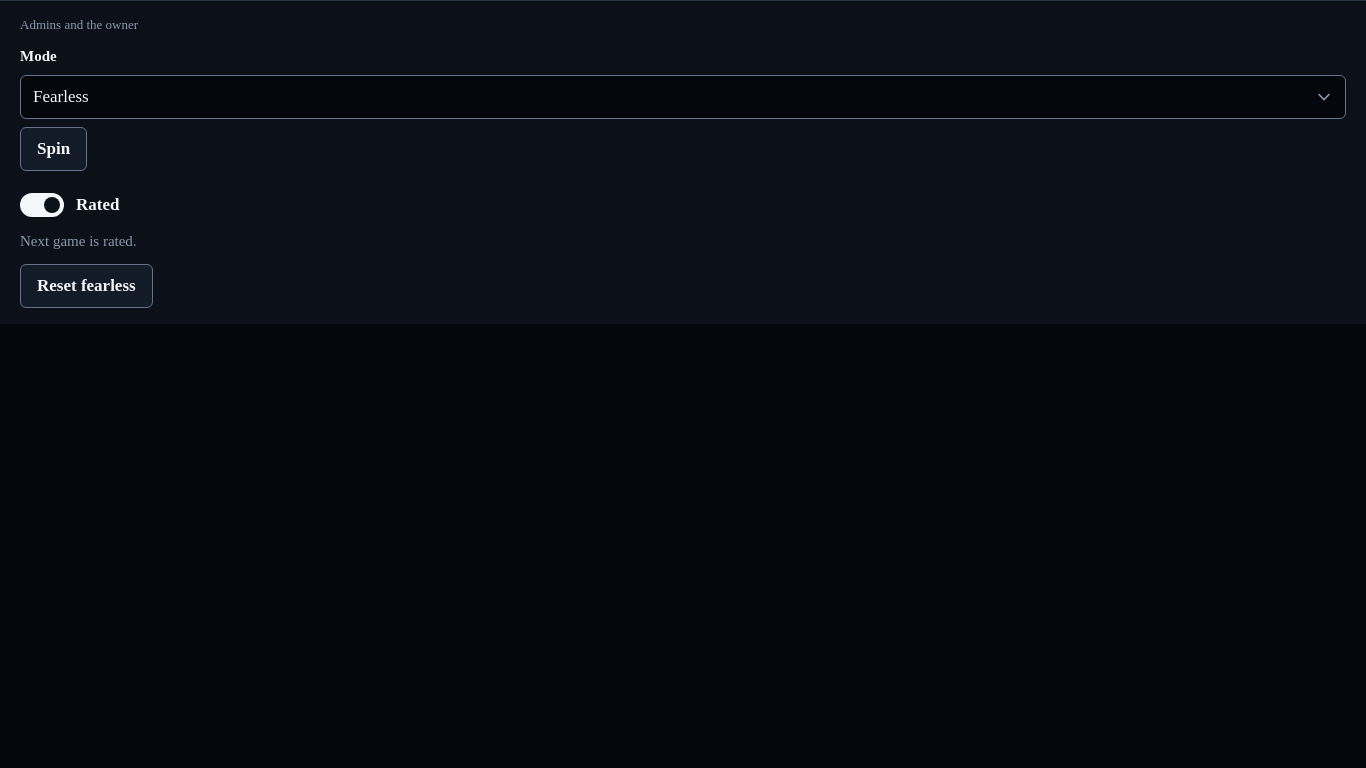
Test: focus never drops to the page (QA fix 2026-10-04) › after Reset fearless, focus is on the outcome line
Click the button "Reset fearless": (86, 286) [20,264,153,308]
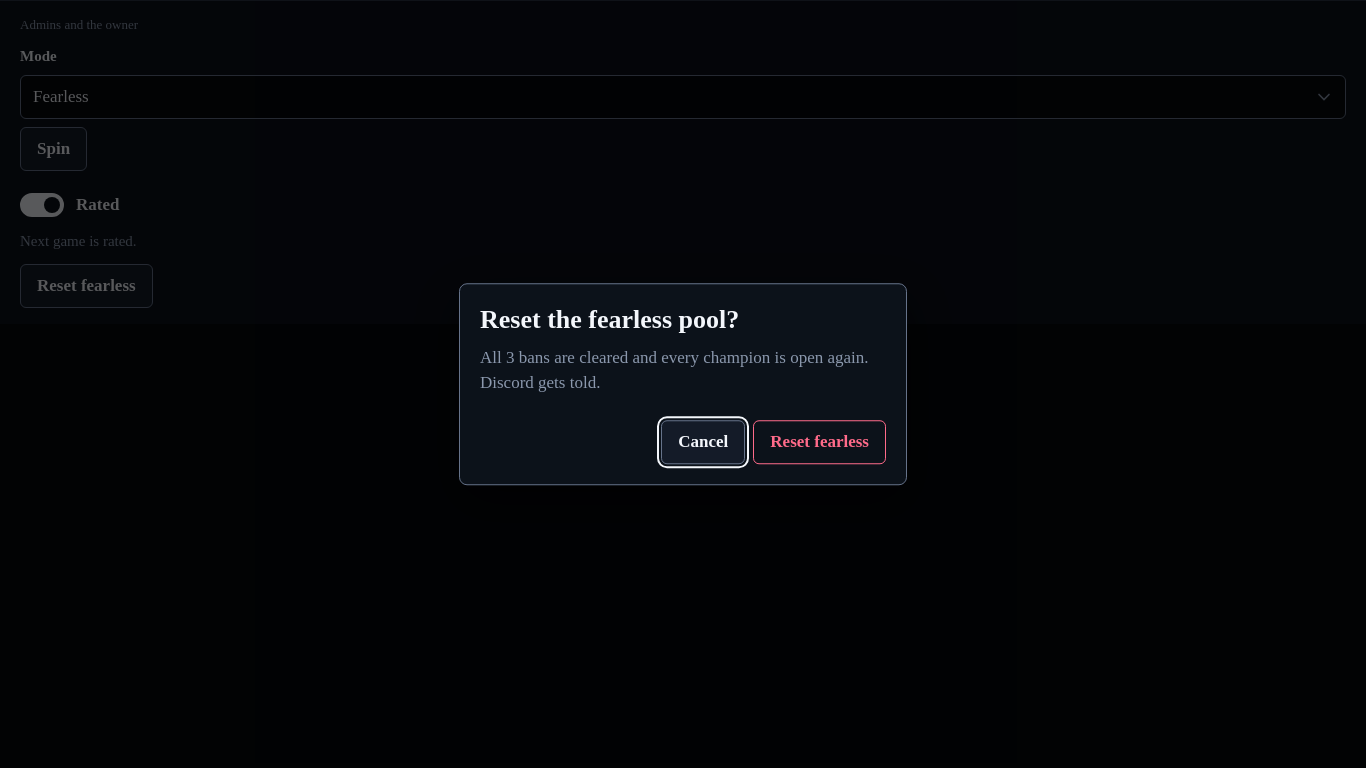
Click the button "Reset fearless": (820, 442) [753,420,886,464]
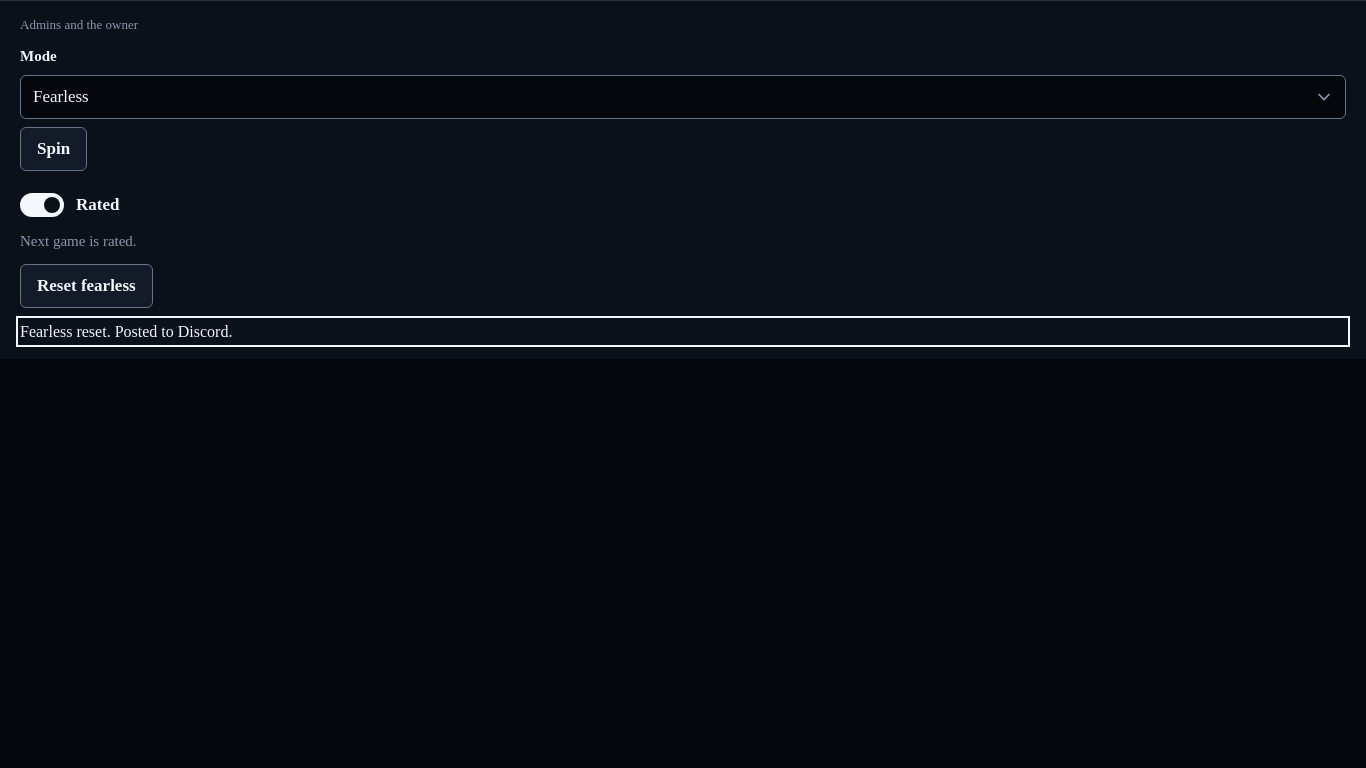
Result: the dialog is gone
